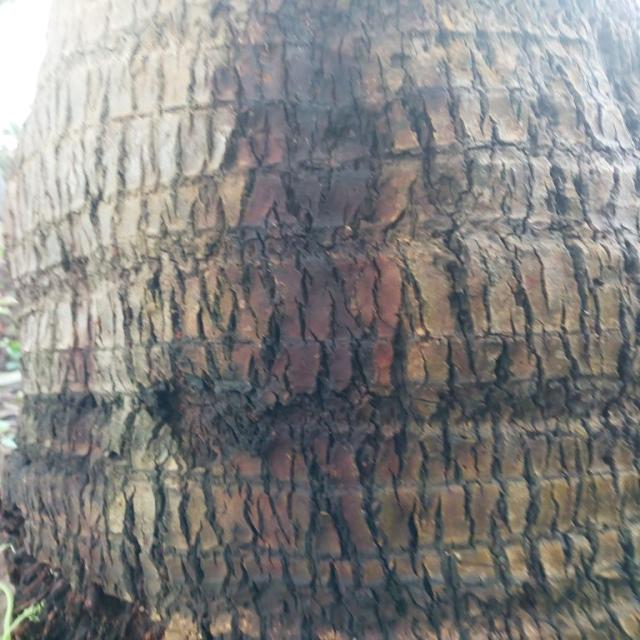stembleeding: (174, 7, 484, 610)
